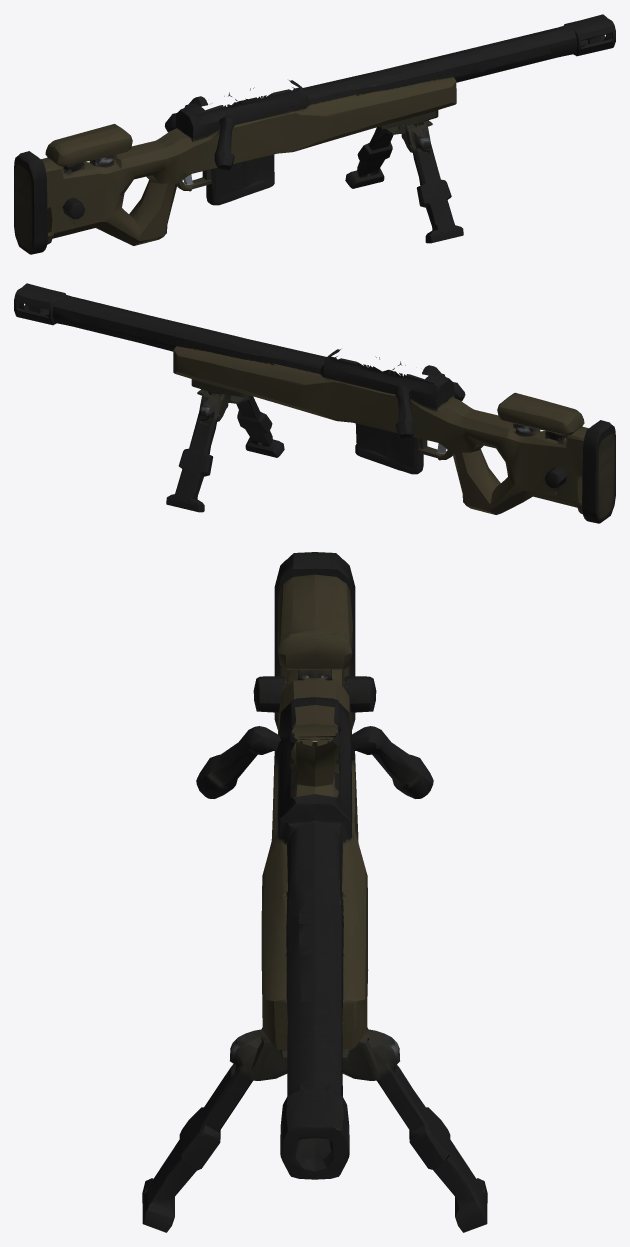
File: sniper_iron.glb
3 views of the same model, one above another, from view 1: azimuth 30°, elevation 25°; view 2: azimuth 150°, elevation 25°; view 3: azimuth 270°, elevation 25° (orthographic). The views are drawn at different scales.
Parts seen in each view (by area): view 1: world; view 2: world; view 3: world.
Part boxes in pixels (x1,y1,x2,y2): world: [14, 14, 615, 254]; world: [14, 283, 615, 523]; world: [142, 552, 487, 1232].
Size of the model in its own units: 1 by 0.2581 by 0.2562.
Materials: 1 (1 with a texture image).
